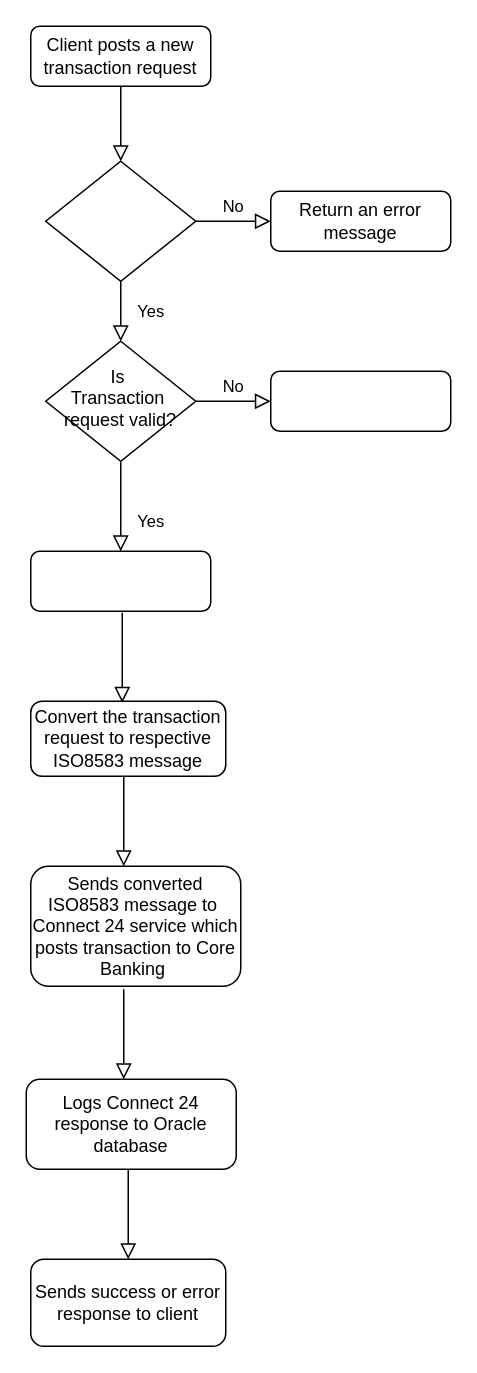
Some shapes in this 477 by 1373 pixel diagram are drawn without their labels. Each missing label, with the centre of its shape:
"Is Client Authenticated and Authorized" belongs at point 120,220.
"Log the transaction request on Oracle database" belongs at point 120,580.
"Return a validation error to client" belongs at point 360,400.
